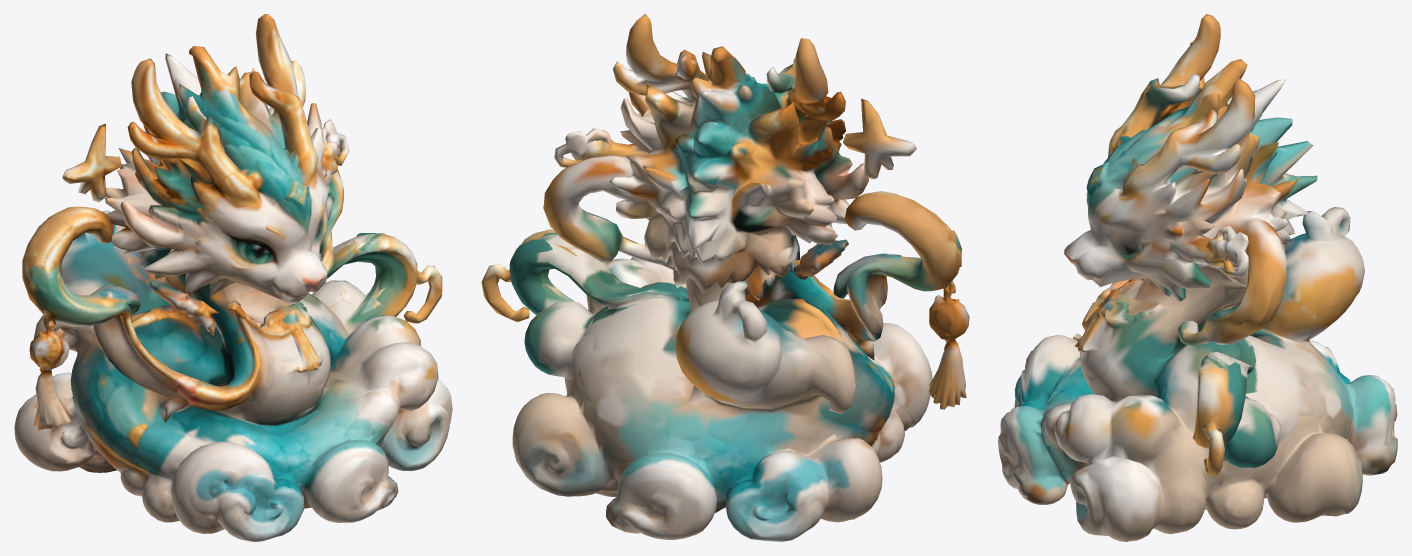
File: dragon_roblox.glb
3 renders of one model, left to right at view 1: azimuth 30°, elevation 25°; view 2: azimuth 150°, elevation 25°; view 3: azimuth 270°, elevation 25°, orthographic. The views are drawn at different scales.
Visible parts, largest first — view 1: MoonDragon_Part002, MoonDragon_Eyes; view 2: MoonDragon_Part002; view 3: MoonDragon_Part002, MoonDragon_Eyes.
Boxes of the visible parts, box(x1,y1,x2,y2) form: MoonDragon_Part002: box(14, 14, 452, 541); MoonDragon_Eyes: box(238, 199, 326, 284); MoonDragon_Part002: box(481, 14, 969, 541); MoonDragon_Part002: box(998, 14, 1397, 541); MoonDragon_Eyes: box(1064, 191, 1117, 265).
Bounding box in the file's own units: 3.56 × 3.34 × 2.87.
1 material, 1 textured.
